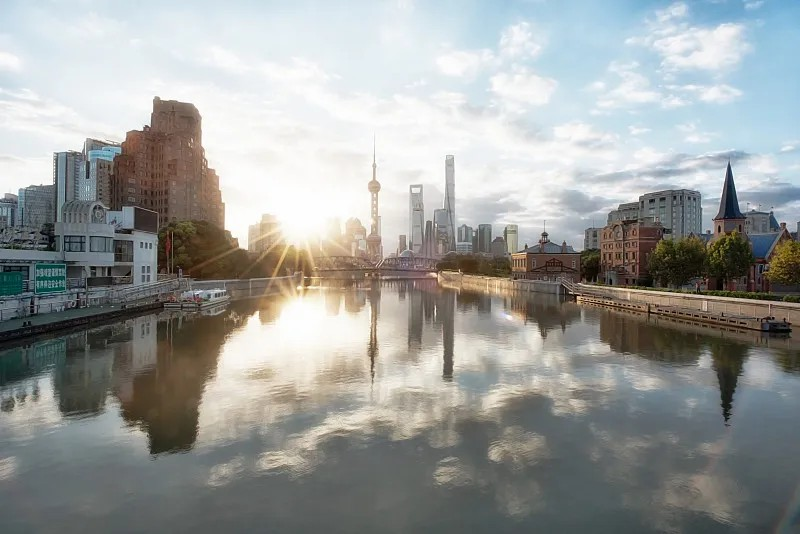Oriental: (366, 133, 382, 255)
